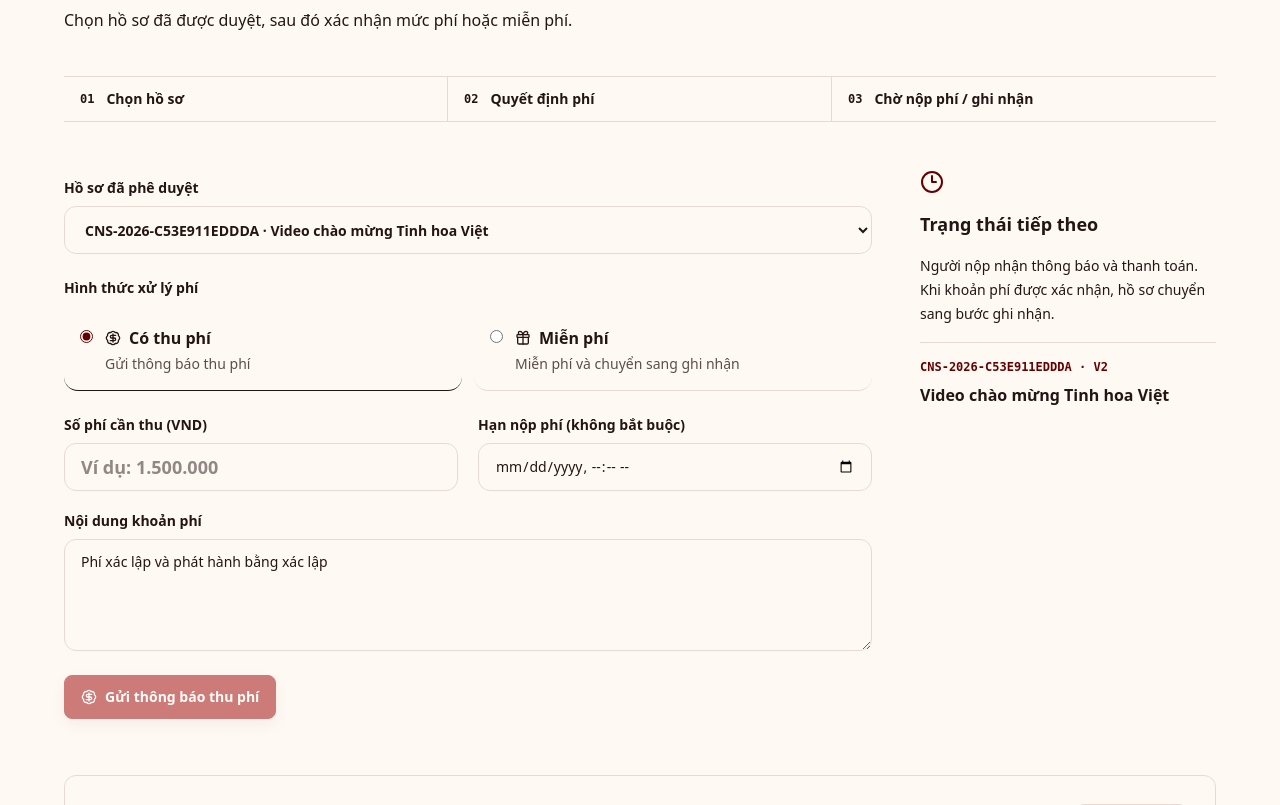
Test: PaymentRequestWorkspace › reports that an adequately funded wallet was charged immediately
In the field labelled "Số phí cần thu (VND)": (261, 467) [64,443,458,491], type "1500000"
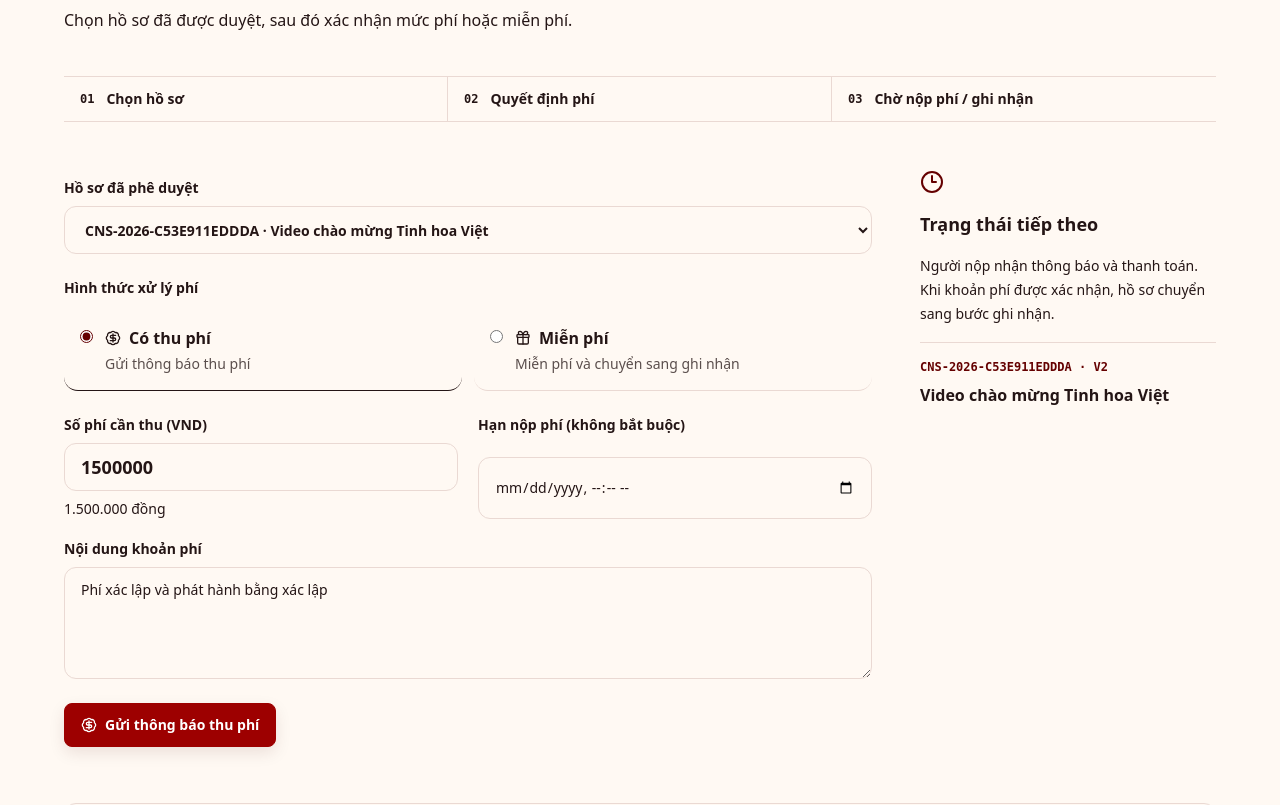
Click the button "Gửi thông báo thu phí": (170, 725) [64,703,276,747]
(page scrolled)
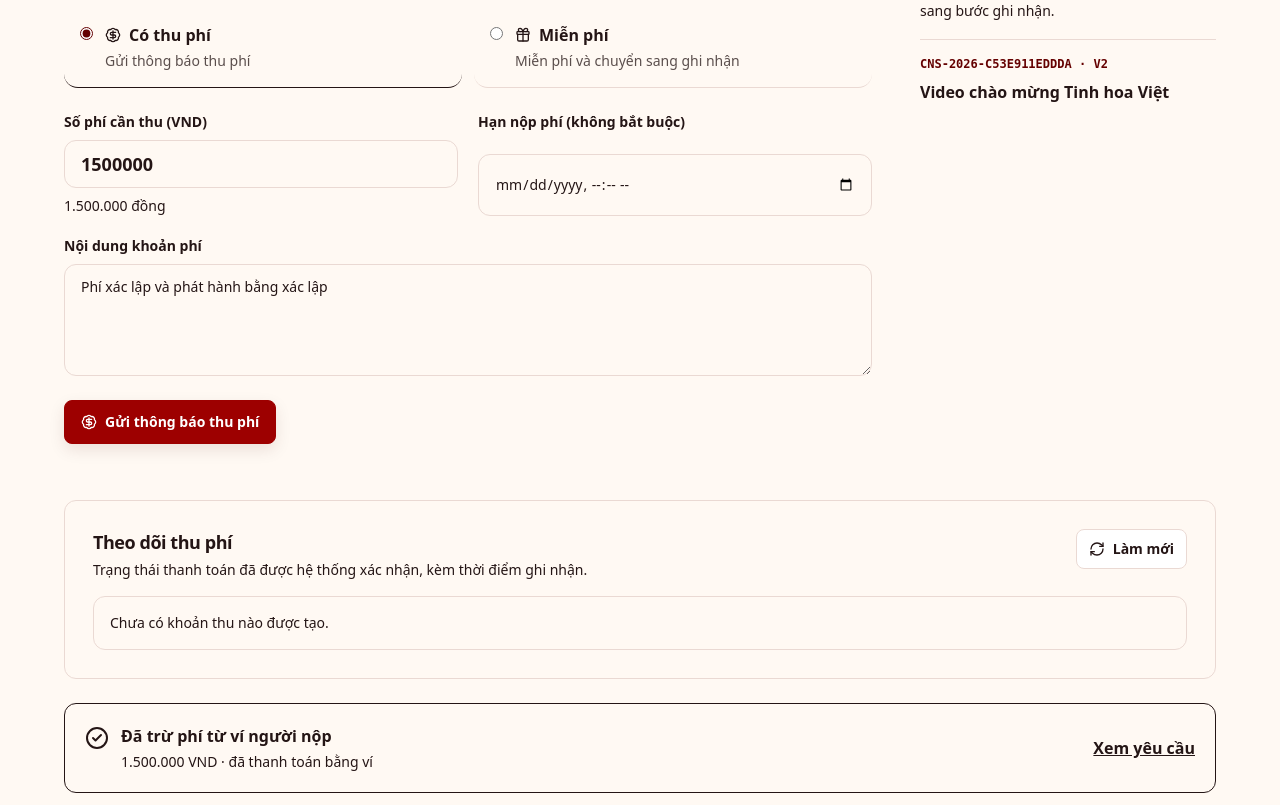
Expected: the heading "Đã trừ phí từ ví người nộp" is shown, [121,725,332,747]
Expected: the text "1.500.000 VND · đã thanh toán bằng ví" is shown, [121,752,373,772]
